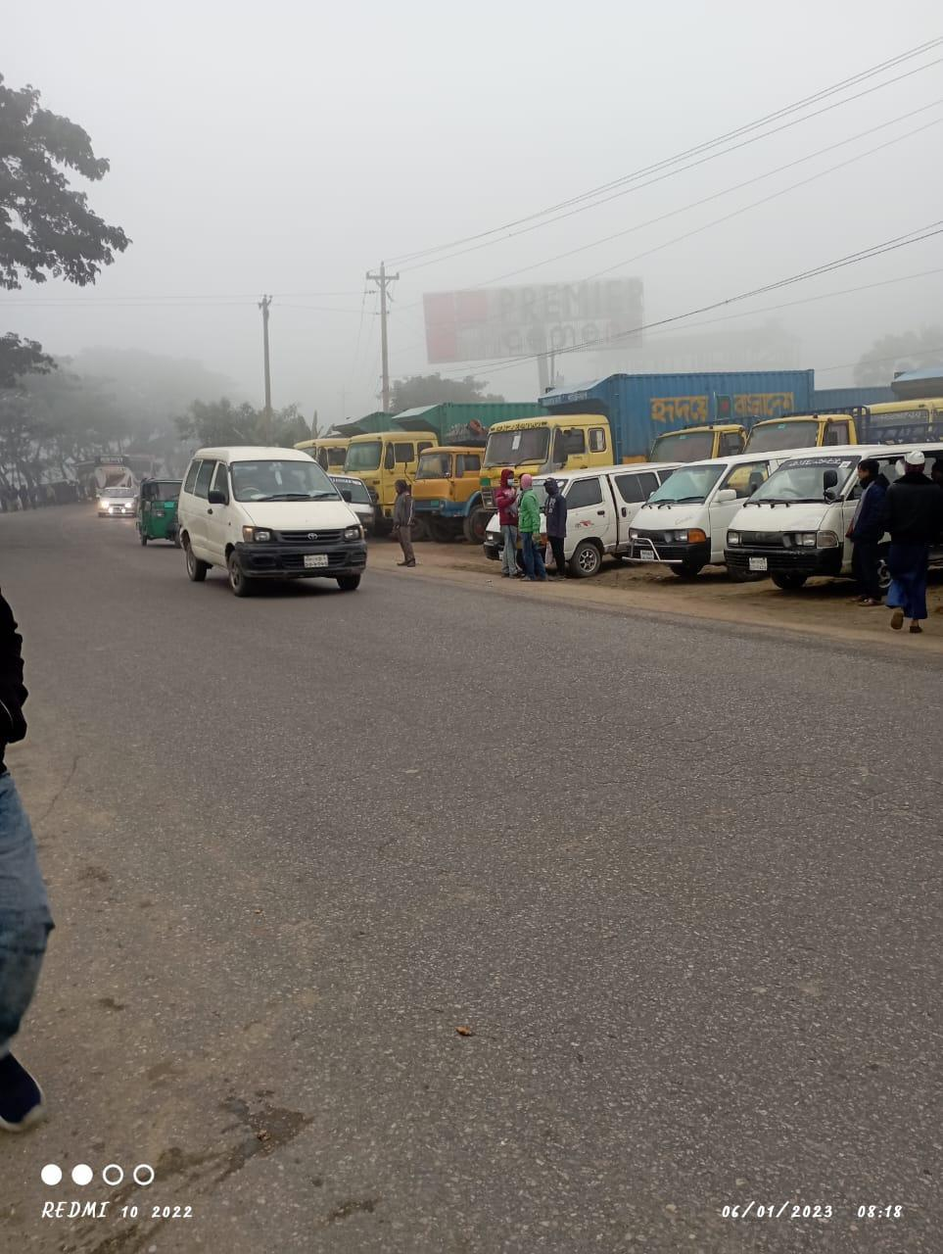Car: (174, 438, 388, 603), (719, 435, 943, 589), (621, 436, 824, 572), (494, 455, 652, 579), (91, 479, 149, 524)
Truck: (475, 369, 821, 514), (332, 378, 417, 536), (415, 432, 480, 542)
